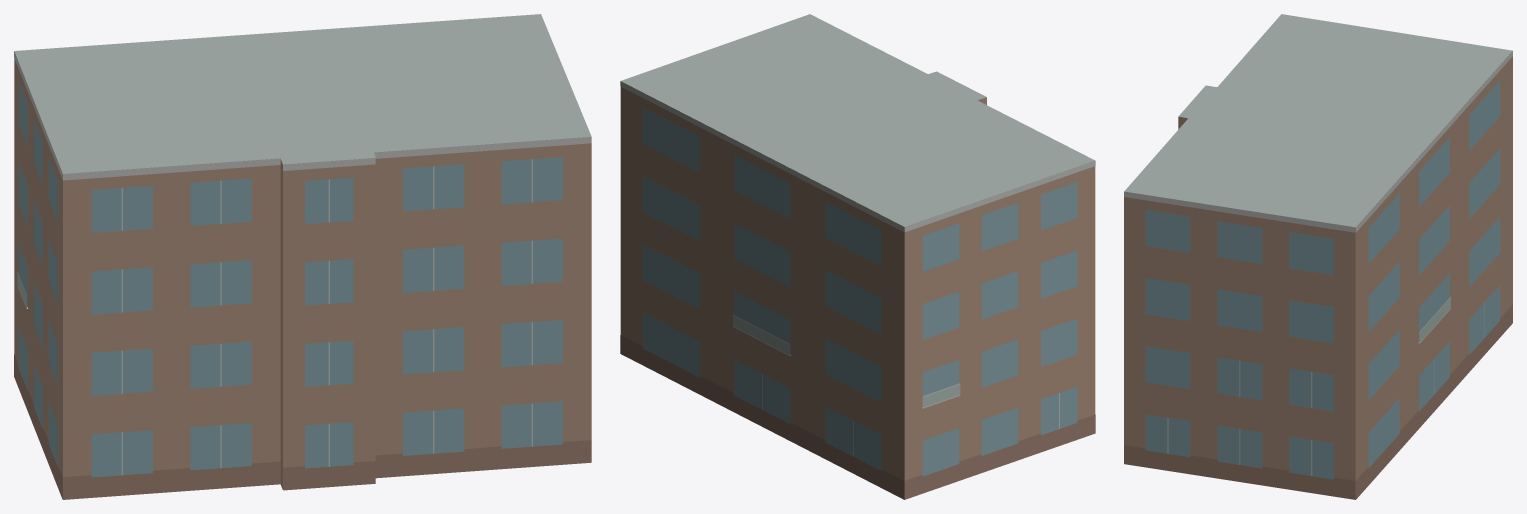
File: survey-upis-32910511.glb
3 renders of one model, left to right at view 1: azimuth 30°, elevation 25°; view 2: azimuth 150°, elevation 25°; view 3: azimuth 270°, elevation 25°, orthographic. The views are drawn at different scales.
Visible parts, largest first — view 1: survey-upis-32910511.tmp; view 2: survey-upis-32910511.tmp; view 3: survey-upis-32910511.tmp.
Part boxes in pixels (x1,y1,x2,y2): survey-upis-32910511.tmp: (14, 14, 591, 499); survey-upis-32910511.tmp: (620, 14, 1095, 499); survey-upis-32910511.tmp: (1124, 14, 1512, 499).
Size of the model in its own units: 20.49 by 12.2 by 15.78.
